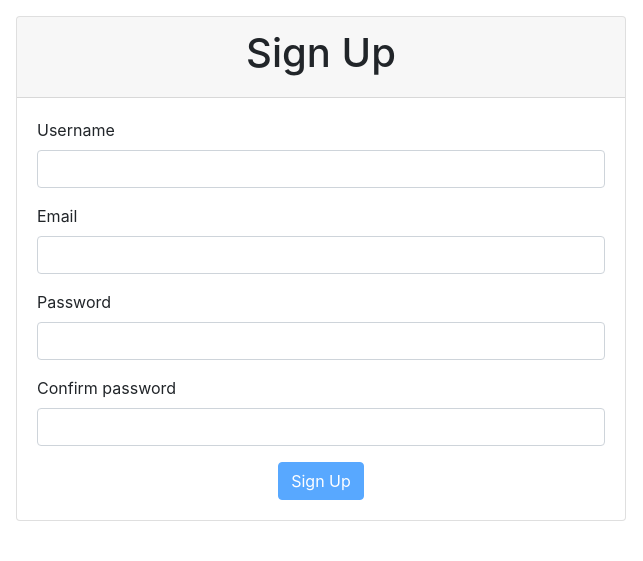
Test: Sign Up page › interactions › displays 'E-mail cannot be null' for invalid 'email' field
This screenshot has width=643, height=561.
Type "Joe Blow" into the field labelled "Username" at (321, 169), box x1=37 y1=150 x2=605 y2=188
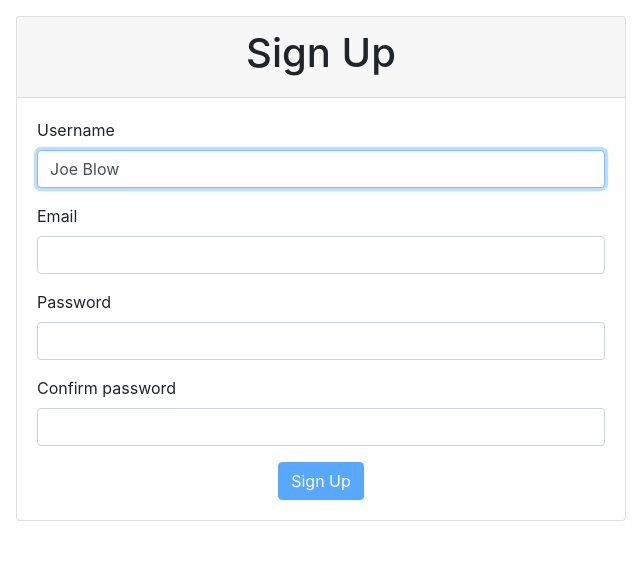
Type "user123@example.com" into the field labelled "Email" at (321, 255), box x1=37 y1=236 x2=605 y2=274
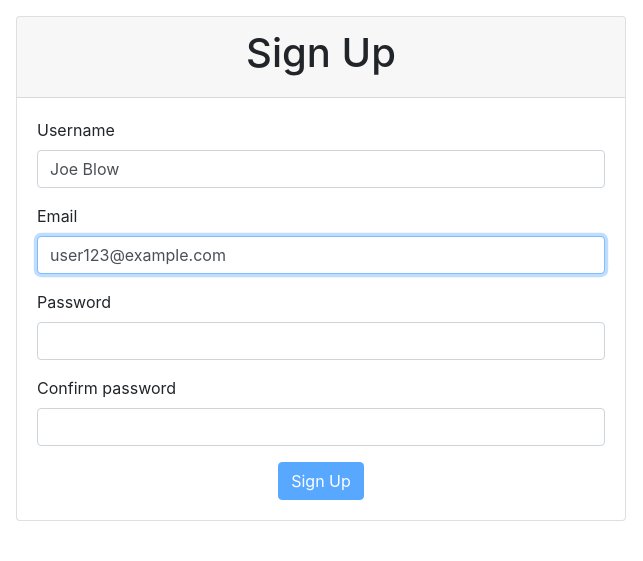
Type "abc123" into the password field labelled "Password" at (321, 341), box x1=37 y1=322 x2=605 y2=360
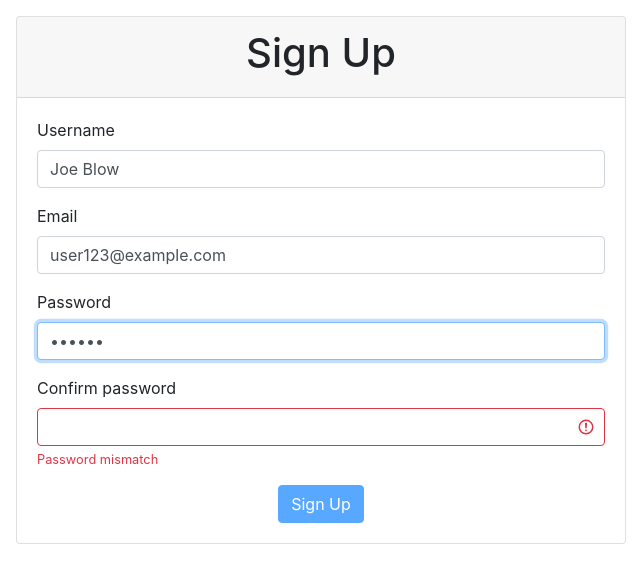
Type "abc123" into the password field labelled "Confirm password" at (321, 427), box x1=37 y1=408 x2=605 y2=446
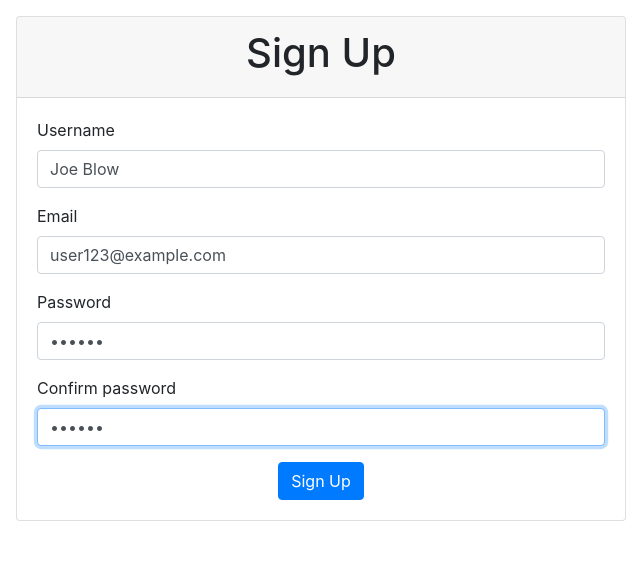
Click the button "Sign Up" at (321, 481), box x1=278 y1=462 x2=364 y2=500
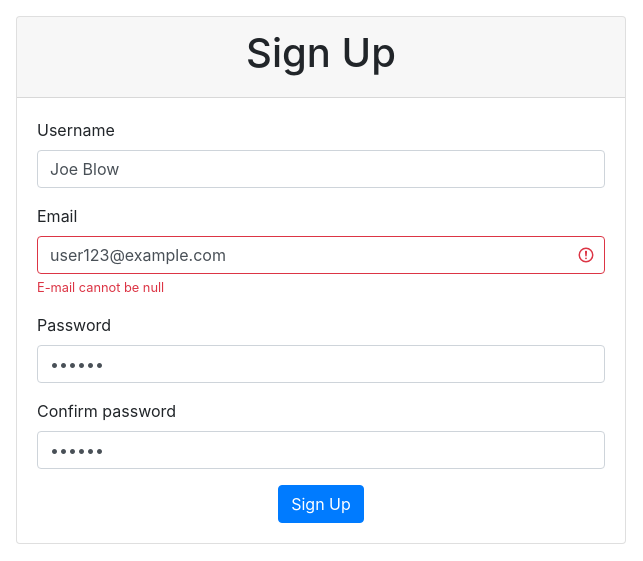
Expected: the text "E-mail cannot be null" is shown, x1=37 y1=280 x2=164 y2=295
